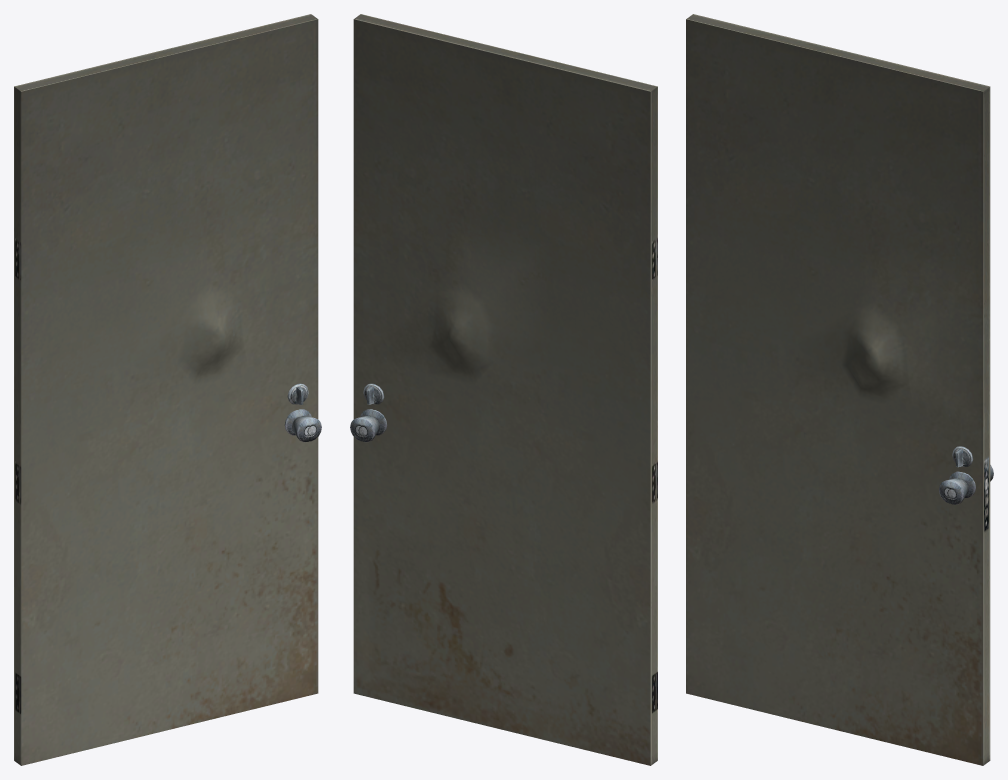
The model's file is doormainmetalsmall01_dm01.glb.
3 views of the same model, side by side, from view 1: azimuth 30°, elevation 25°; view 2: azimuth 150°, elevation 25°; view 3: azimuth 330°, elevation 25° (orthographic).
Parts seen in each view (by area): view 1: doormainmetalsmall01_dm01; view 2: doormainmetalsmall01_dm01; view 3: doormainmetalsmall01_dm01.
Boxes of the visible parts, bbox=[...] form: doormainmetalsmall01_dm01: bbox=[14, 14, 321, 765]; doormainmetalsmall01_dm01: bbox=[350, 14, 657, 765]; doormainmetalsmall01_dm01: bbox=[686, 14, 993, 765].
Bounding box in the file's own units: 0.9134 × 1.98 × 0.172.
3 materials, 3 textured.
